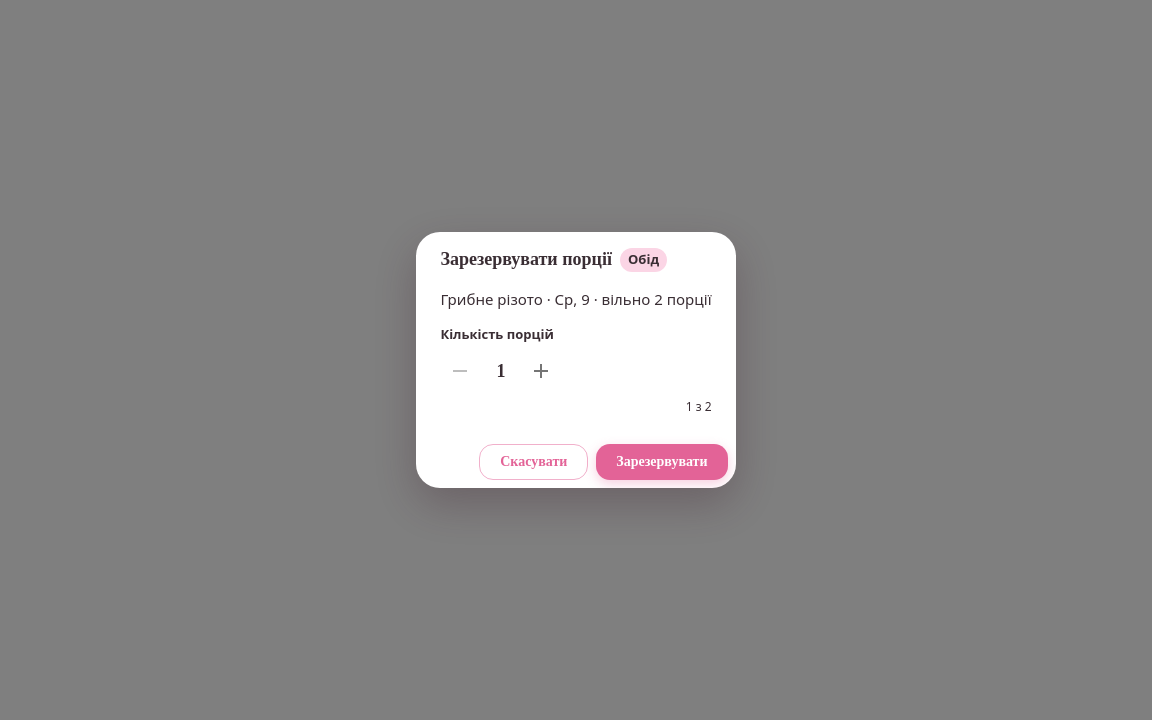
it: ReserveDialog › renders the failure state with mascot, headline, interpolated body, and a refresh CTA on reservation error
Click the button "Зарезервувати". click: (662, 462)
box: left=596, top=444, right=728, bottom=480
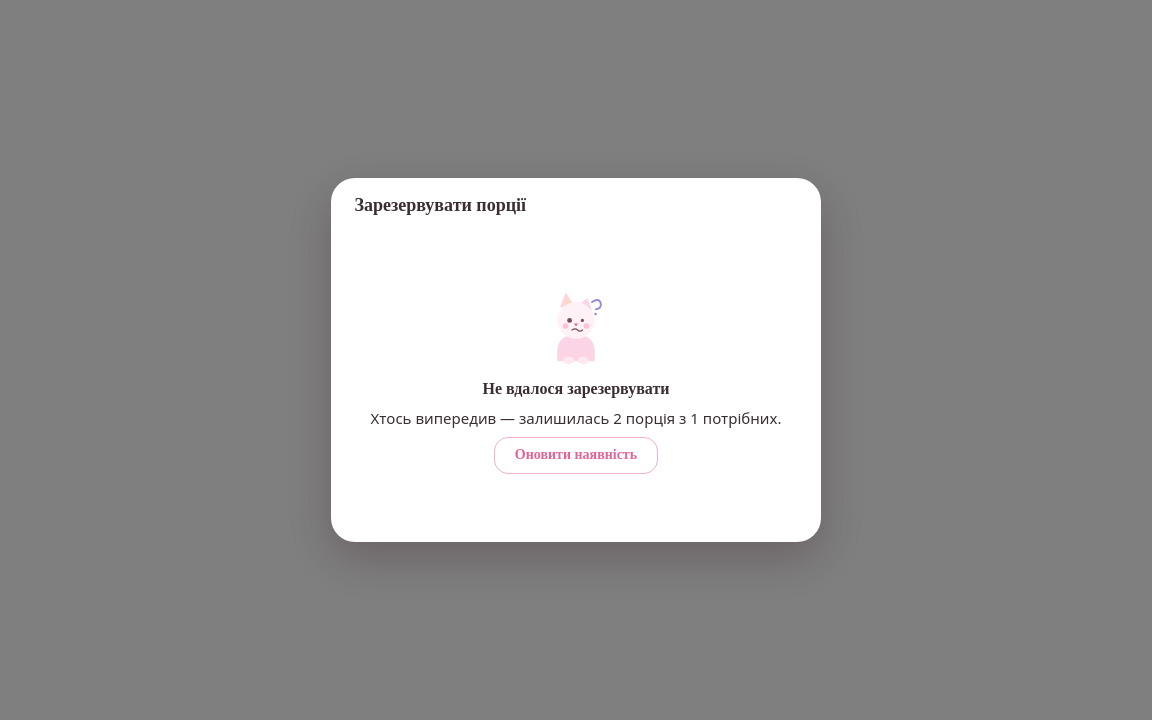
Check: the heading "Не вдалося зарезервувати" is shown, box left=482, top=378, right=670, bottom=399
Check: the text "Хтось випередив — залишилась 2 порція з 1 потрібних." is shown, box left=370, top=407, right=781, bottom=429
Check: the button "Оновити наявність" is shown, box left=494, top=437, right=658, bottom=474
